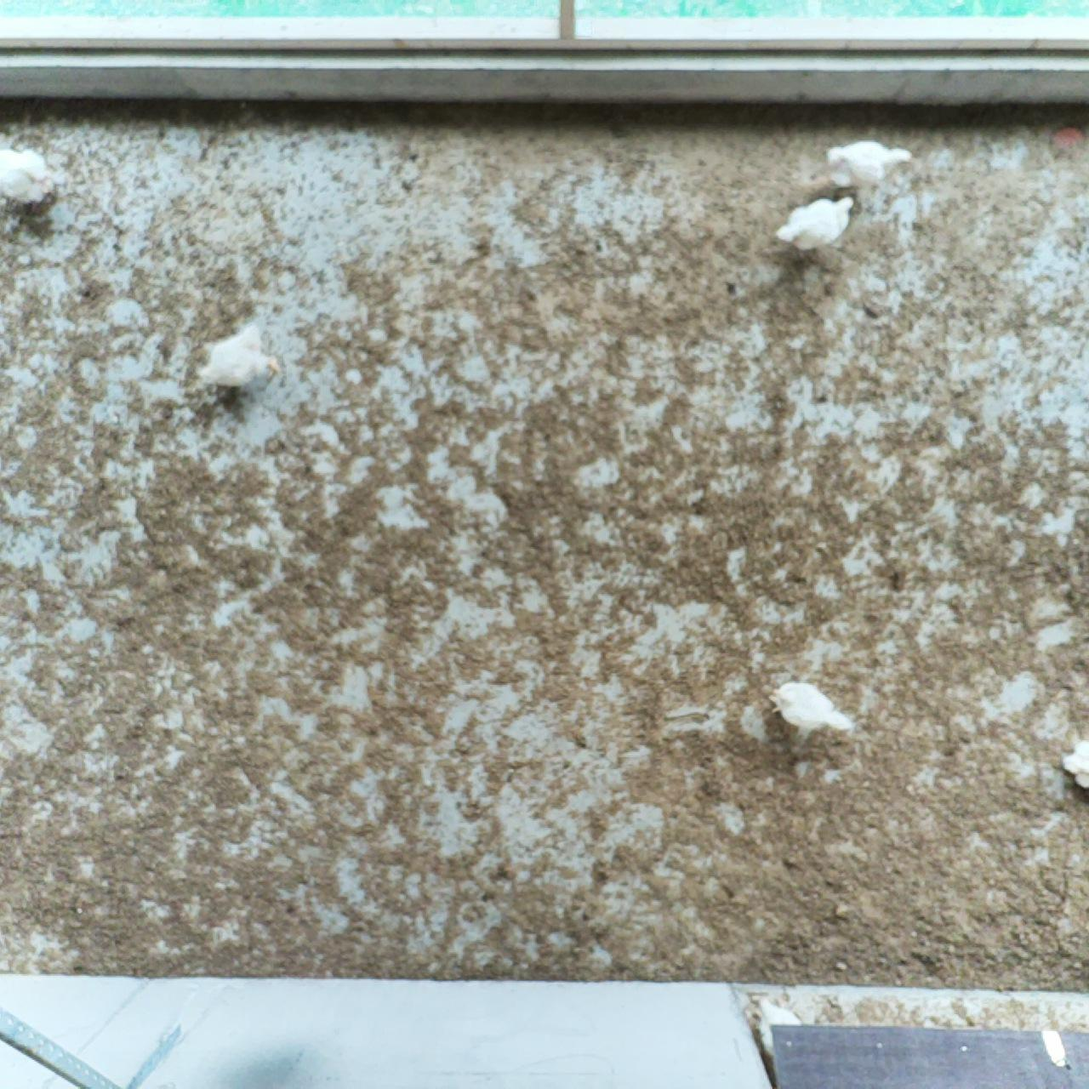chicken: (194, 321, 282, 393), (766, 678, 855, 742), (826, 139, 917, 194), (773, 195, 855, 251), (0, 145, 59, 211), (1055, 733, 1089, 797)
